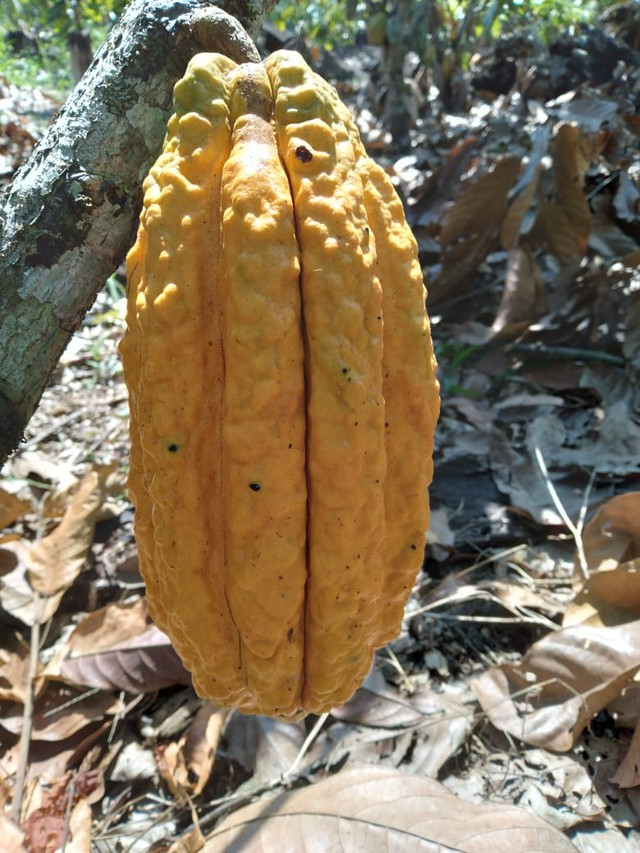Health: (115, 39, 450, 728)
